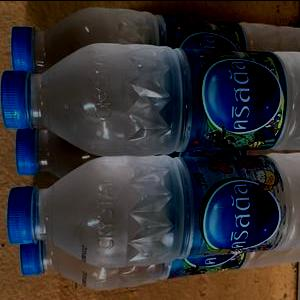bottle: (0, 38, 300, 159), (4, 150, 300, 271), (16, 190, 300, 292), (13, 91, 300, 189), (5, 0, 300, 92)
